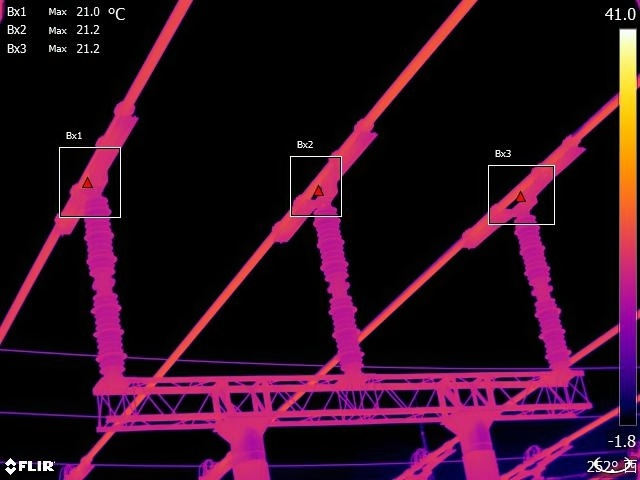post insulator: (314, 199, 369, 372), (516, 211, 576, 366), (84, 197, 130, 374)
